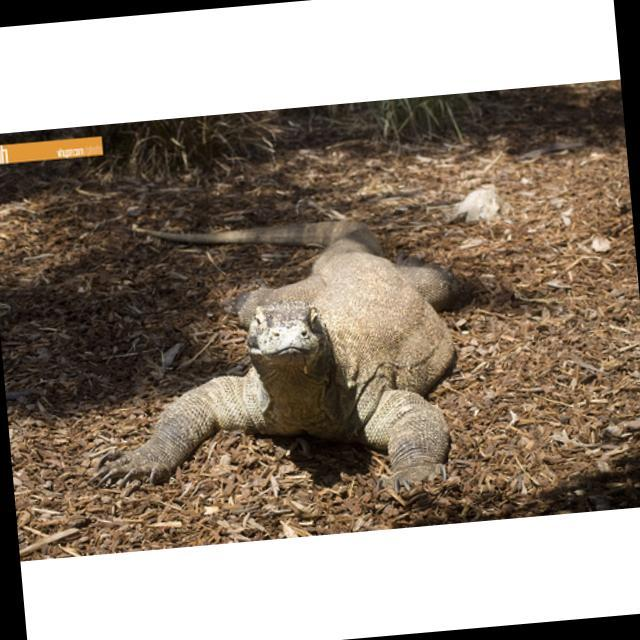KomodoDragon: (77, 189, 487, 518)
